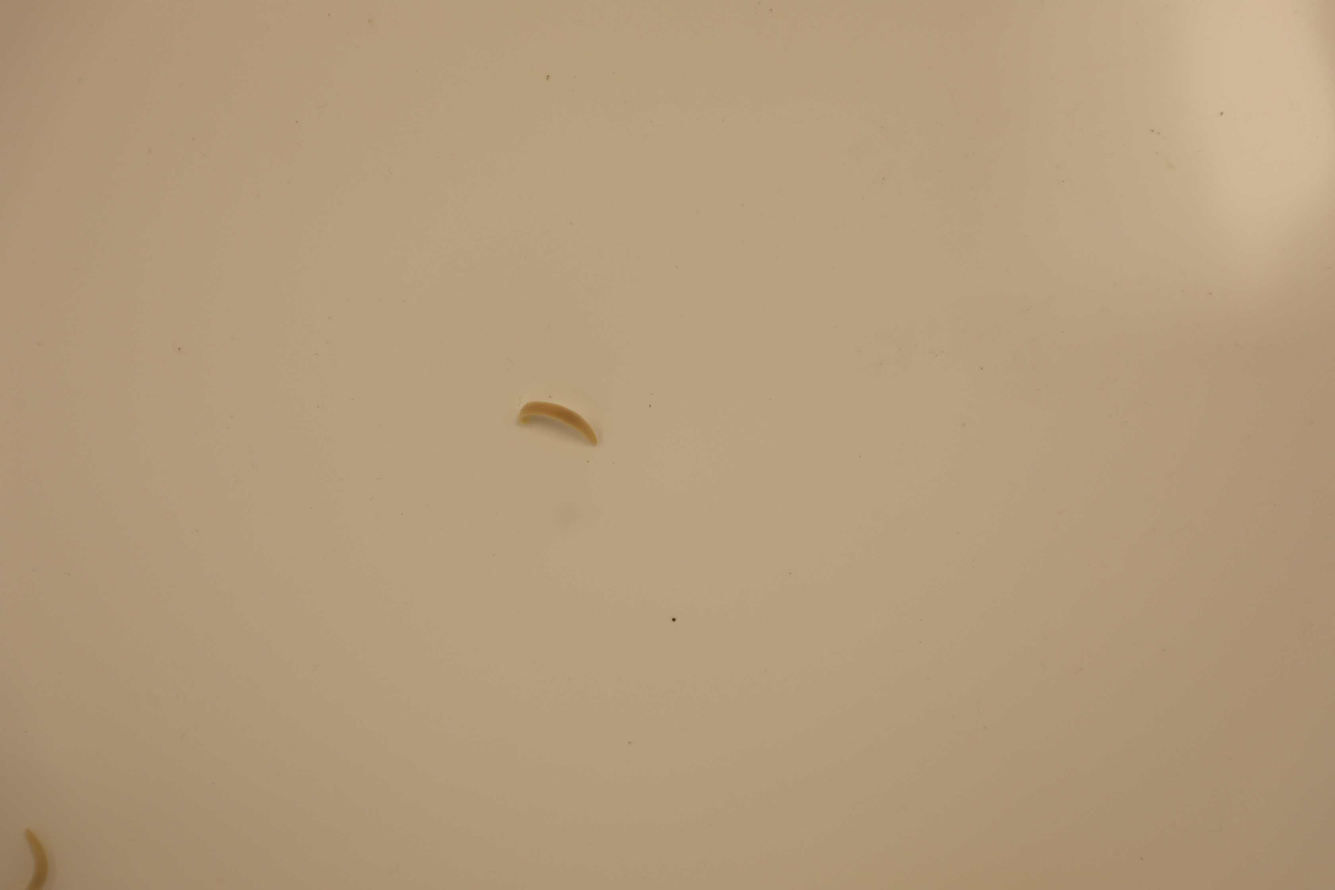Cadisfly: (518, 401, 599, 447), (19, 828, 49, 890)
